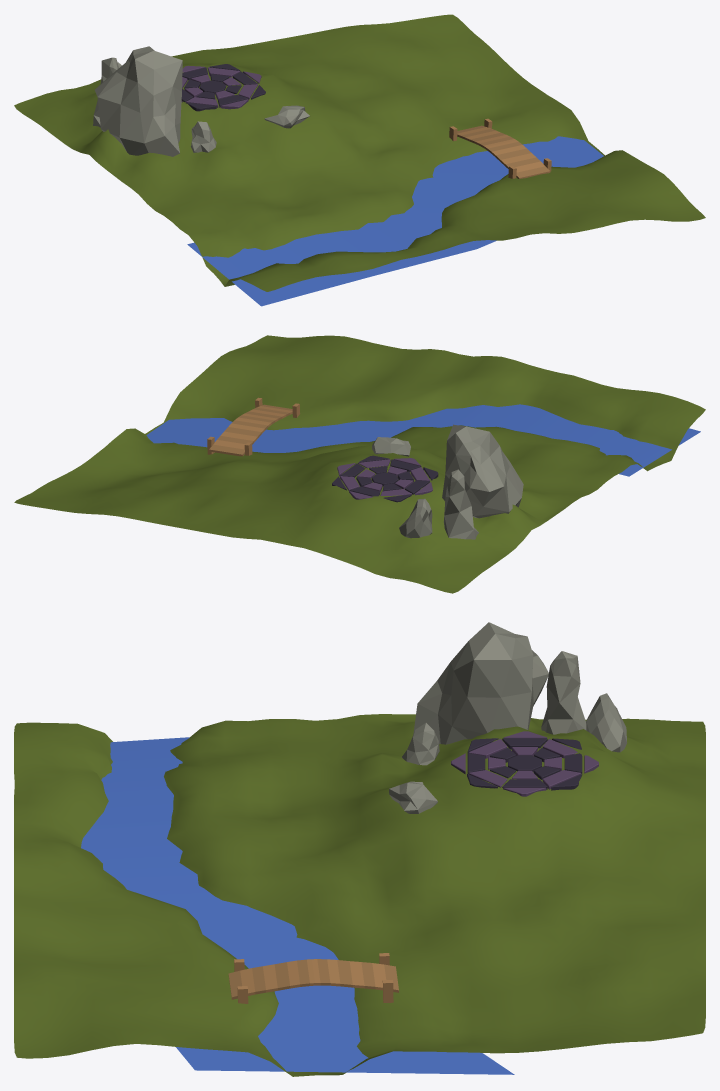
The model's file is BaseEnvironment.fbx.
The picture shows the model from 3 angles, top to bottom: view 1: azimuth 30°, elevation 25°; view 2: azimuth 150°, elevation 25°; view 3: azimuth 270°, elevation 25°; orthographic projection. The views are drawn at different scales.
Parts seen in each view (by area): view 1: Ground, River, Rock, Mage circle, Bridge, Rock5, Rock4; view 2: Ground, River, Rock, Mage circle, Bridge, Rock2, Rock3, Rock5; view 3: Ground, River, Rock, Mage circle, Bridge, Rock2, Rock3, Rock5, Rock4.
Boxes of the visible parts, box(x1,y1,x2,y2) form: Ground: box(14, 14, 705, 291); River: box(187, 136, 603, 306); Rock: box(95, 46, 182, 156); Mage circle: box(181, 64, 265, 111); Bridge: box(449, 118, 551, 178); Rock5: box(264, 105, 309, 128); Rock4: box(191, 121, 216, 152); Ground: box(14, 335, 705, 593); River: box(146, 404, 700, 476); Rock: box(442, 424, 523, 518); Mage circle: box(332, 455, 438, 502); Bridge: box(207, 397, 300, 456); Rock2: box(443, 469, 478, 539); Rock3: box(399, 498, 432, 538); Rock5: box(372, 437, 410, 456); Ground: box(14, 714, 705, 1076); River: box(81, 737, 514, 1074); Rock: box(413, 622, 548, 744); Mage circle: box(451, 731, 598, 796); Bridge: box(228, 953, 398, 1003); Rock2: box(541, 651, 586, 734); Rock3: box(586, 693, 626, 752); Rock5: box(389, 781, 437, 813); Rock4: box(402, 723, 439, 765).
Bounding box in the file's own units: 3777 × 1261 × 3735.
